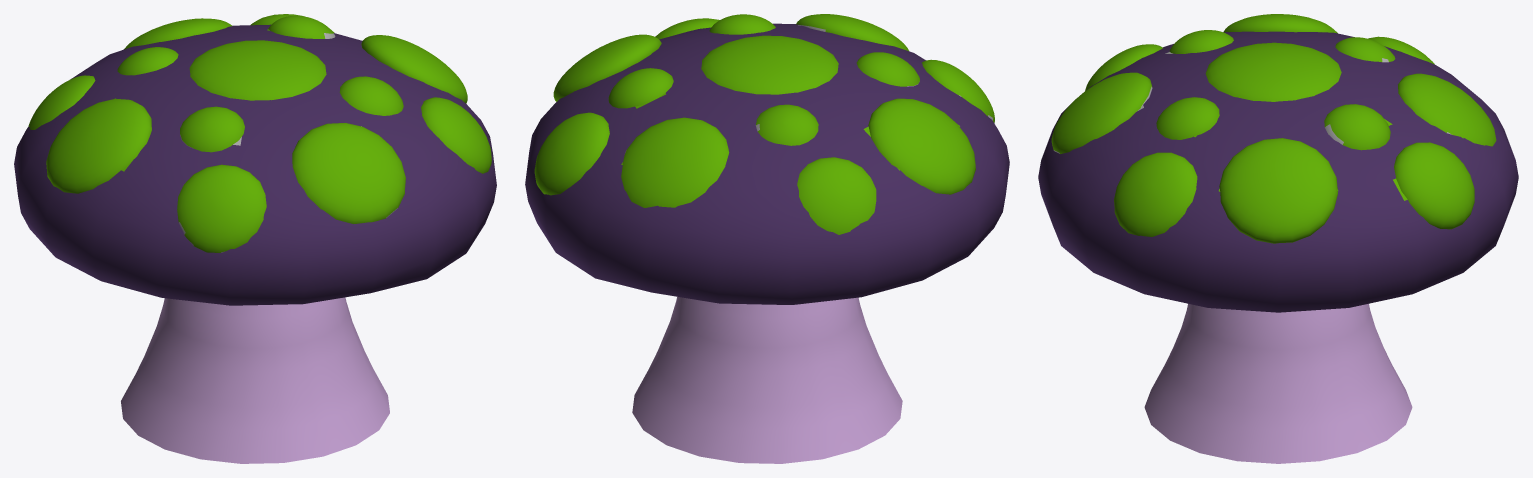
The model's file is hongoMoradoVerde.fbx.
The picture shows the model from 3 angles, left to right: view 1: azimuth 30°, elevation 25°; view 2: azimuth 150°, elevation 25°; view 3: azimuth 270°, elevation 25°; orthographic projection.
Visible parts, largest first — view 1: Hongo; view 2: Hongo; view 3: Hongo.
Part boxes in pixels (x1,y1,x2,y2): Hongo: [14, 14, 496, 463]; Hongo: [525, 14, 1009, 463]; Hongo: [1038, 14, 1518, 463].
Bounding box in the file's own units: 4 × 3.2 × 4.
